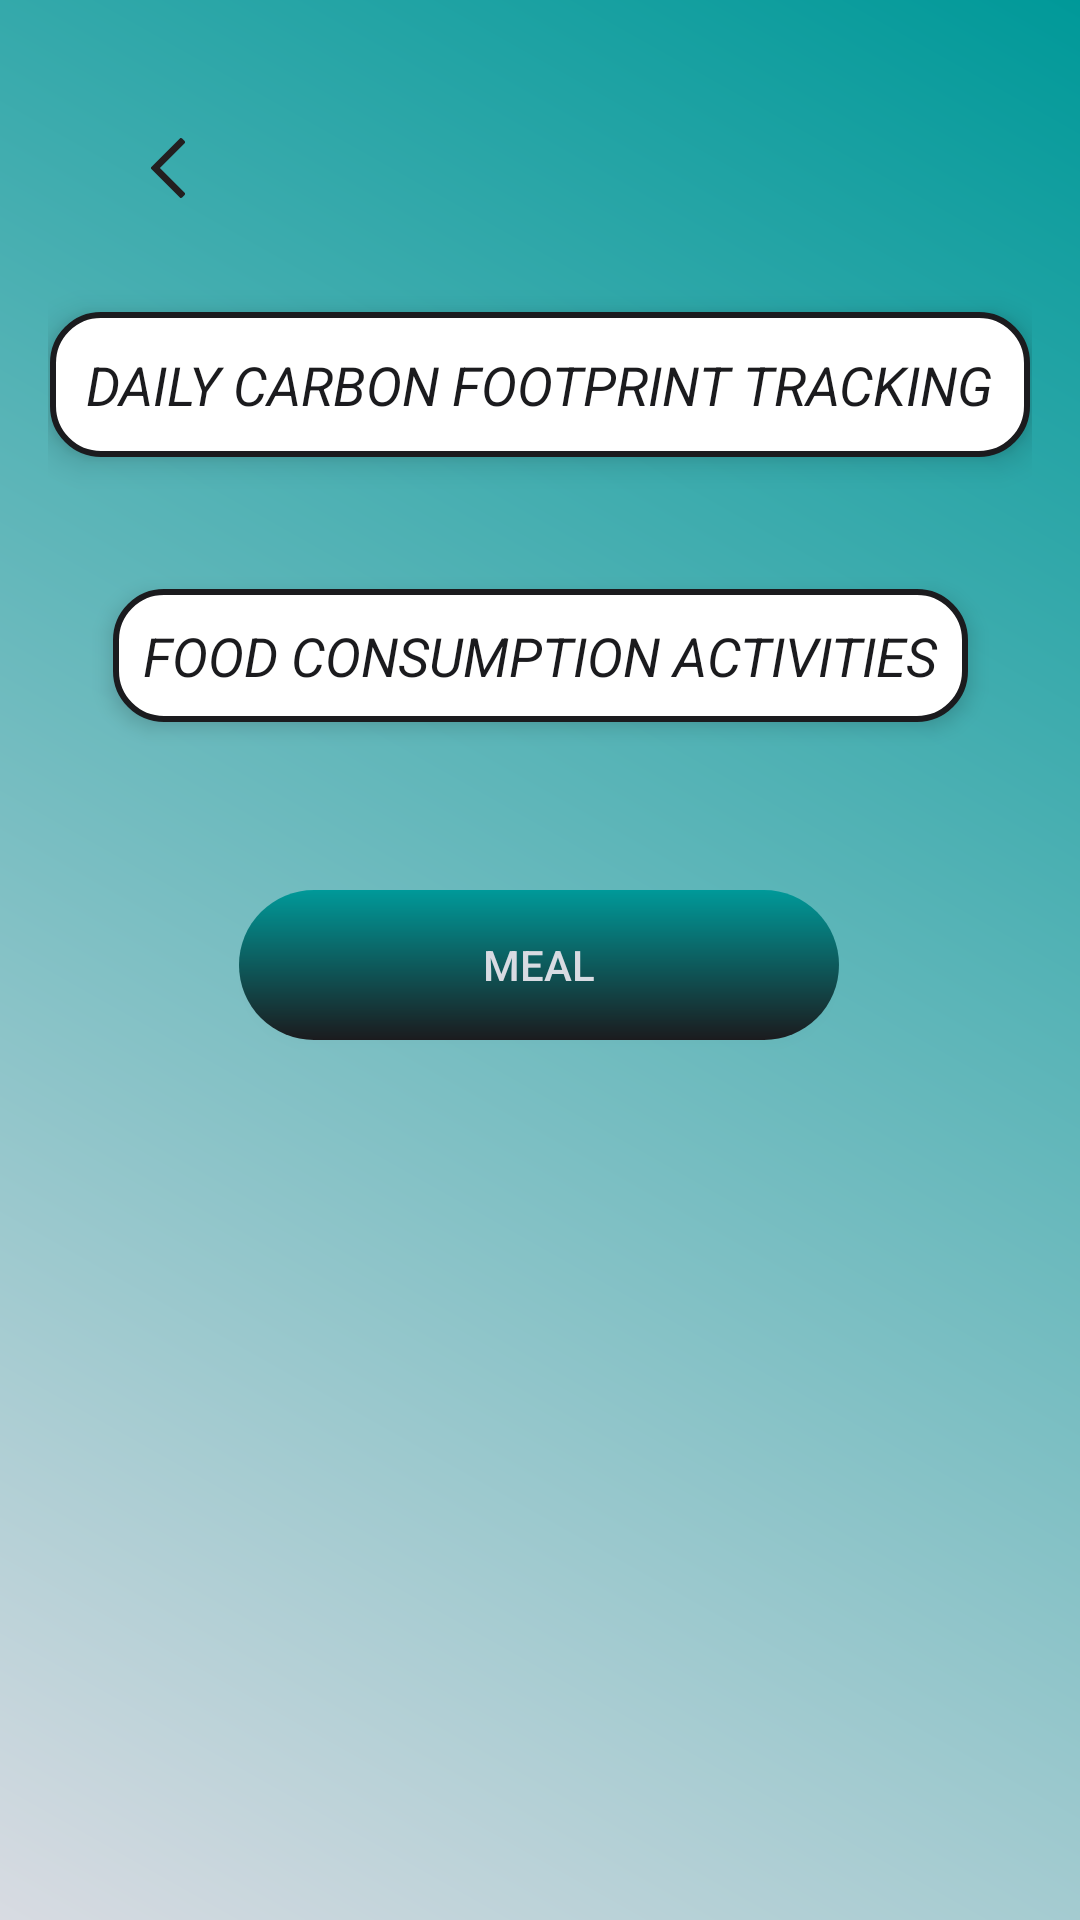

Icon bounding boxes for this 1080 x 1920 phone screenshot, format (x1, y1, x2, y2):
Back Button: (151, 138, 185, 198)
